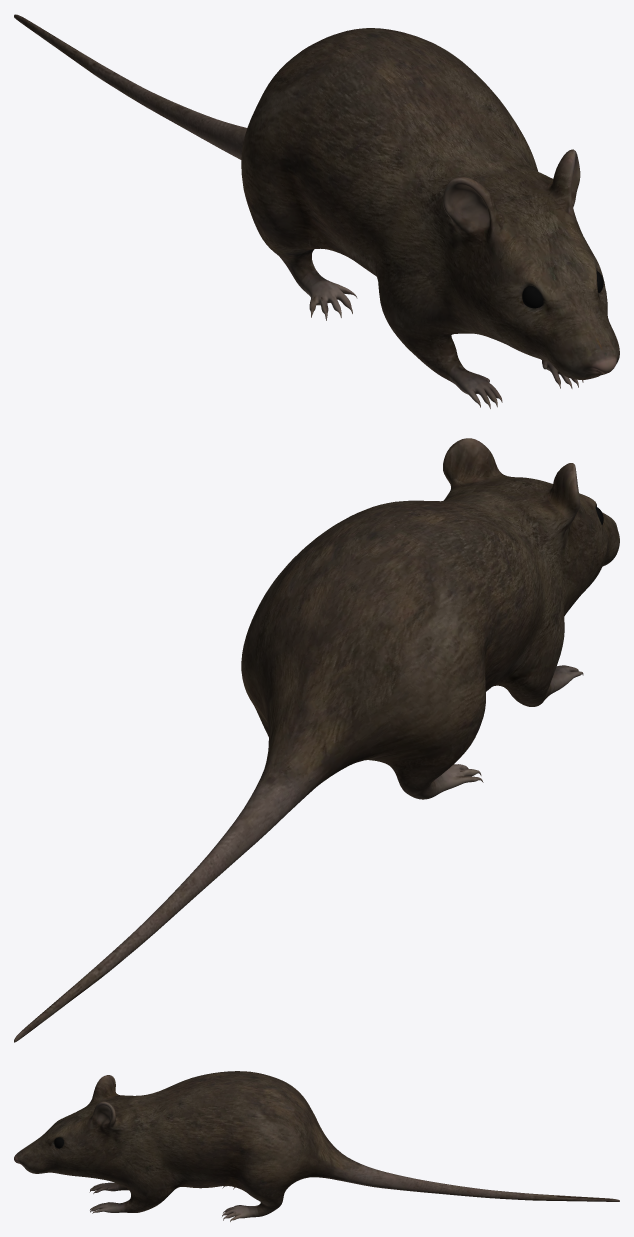
Rendered from street_rat.glb.
The picture shows the model from 3 angles, top to bottom: view 1: azimuth 30°, elevation 25°; view 2: azimuth 150°, elevation 25°; view 3: azimuth 270°, elevation 25°; orthographic projection. The views are drawn at different scales.
Parts seen in each view (by area): view 1: street_rat_lod0; view 2: street_rat_lod0; view 3: street_rat_lod0.
Boxes of the visible parts, x1,y1,x2,y2 form: street_rat_lod0: (14, 14, 619, 408); street_rat_lod0: (14, 438, 619, 1042); street_rat_lod0: (14, 1071, 619, 1221).
Size of the model in its own units: 0.032 by 0.0339 by 0.1483.
1 material, 1 textured.
